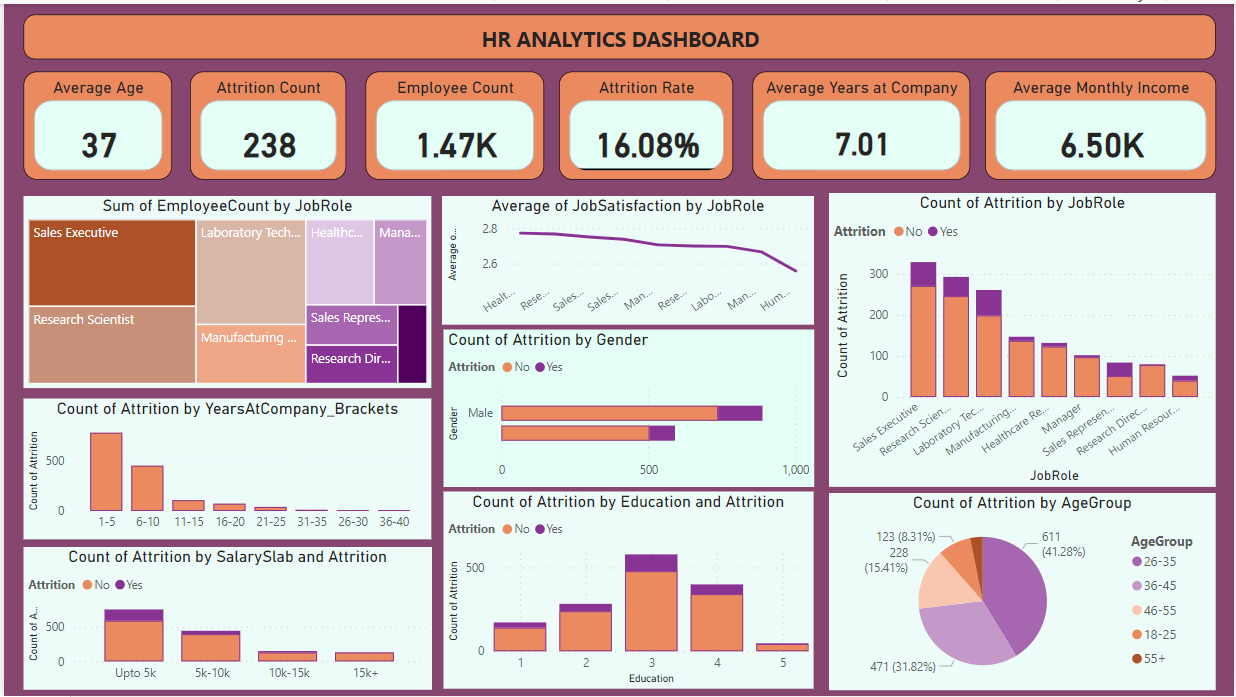

What the dashboard file says about the page in this screenshot:
{"tool":"powerbi","page":{"name":"Page 1","canvas":[1280,720],"ordinal":0},"visuals":[{"type":"columnChart","fields":{"Category":["HR_Analytics.Education"],"Y":["CountNonNull(HR_Analytics.Attrition)"],"Series":["HR_Analytics.Attrition"]},"box":[458.3,508.3,385,205],"z":0},{"type":"columnChart","fields":{"Category":["HR_Analytics.SalarySlab"],"Y":["CountNonNull(HR_Analytics.Attrition)"],"Series":["HR_Analytics.Attrition"]},"box":[20,565,425,148.8],"z":1000},{"type":"columnChart","title":"Count of Attrition by JobRole ","fields":{"Category":["HR_Analytics.JobRole"],"Y":["CountNonNull(HR_Analytics.Attrition)"],"Series":["HR_Analytics.Attrition"]},"box":[859,196.8,403,306.1],"z":2000},{"type":"barChart","title":"Count of Attrition by Gender","fields":{"Category":["HR_Analytics.Gender"],"Series":["HR_Analytics.Attrition"],"Y":["CountNonNull(HR_Analytics.Attrition)"]},"box":[457.6,338.9,385.8,164],"z":3000},{"type":"cardVisual","title":"Employee Count","fields":{"Data":["Count(HR_Analytics.EmpID)"]},"box":[376.4,70.3,185.9,112.5],"z":4000},{"type":"clusteredColumnChart","fields":{"Category":["HR_Analytics.YearsAtCompany_Brackets"],"Y":["CountNonNull(HR_Analytics.Attrition)"]},"box":[20.3,410.8,424.8,146.8],"z":5000},{"type":"lineChart","fields":{"Category":["HR_Analytics.JobRole"],"Y":["Avg(HR_Analytics.JobSatisfaction)"]},"box":[456.1,199.9,387.3,134.3],"z":6000},{"type":"cardVisual","title":"Average Age","fields":{"Data":["Avg(HR_Analytics.Age)"]},"box":[20.3,70.3,154.6,112.5],"z":7000},{"type":"cardVisual","title":"Average Monthly Income","fields":{"Data":["Avg(HR_Analytics.MonthlyIncome)"]},"box":[1021.4,70.3,240.5,112.5],"z":8000},{"type":"cardVisual","title":"Average Years at Company","fields":{"Data":["Avg(HR_Analytics.YearsAtCompany)"]},"box":[779.3,70.3,226.5,112.5],"z":9000},{"type":"pieChart","fields":{"Category":["HR_Analytics.AgeGroup"],"Y":["CountNonNull(HR_Analytics.Attrition)"]},"box":[858.8,508.8,402.5,205],"z":10000},{"type":"textbox","box":[20.3,10.9,1241.6,46.9],"z":11000},{"type":"cardVisual","title":"Attrition Count","fields":{"Data":["CountNonNull(HR_Analytics.Attrition)"]},"box":[193.7,70.3,162.4,112.5],"z":12000},{"type":"treemap","fields":{"Group":["HR_Analytics.JobRole"],"Values":["Sum(HR_Analytics.EmployeeCount)"]},"box":[20.3,199.9,424.8,199.9],"z":13000},{"type":"cardVisual","title":"Attrition Rate","fields":{"Data":["HR_Analytics.Attrition Rate"]},"box":[577.9,70.3,181.2,112.5],"z":14000}]}

Visuals, with their boxes in screenshot pixels (x1, y1, x2, y2), scaled from the page's 1280x720 canvas onto the 1236x697 screenshot:
columnChart - HR_Analytics.Education x CountNonNull(HR_Analytics.Attrition): <region>443, 492, 814, 691</region>
columnChart - HR_Analytics.SalarySlab x CountNonNull(HR_Analytics.Attrition): <region>19, 547, 430, 691</region>
"Count of Attrition by JobRole " columnChart: <region>829, 191, 1219, 487</region>
"Count of Attrition by Gender" barChart: <region>442, 328, 814, 487</region>
"Employee Count" cardVisual: <region>363, 68, 543, 177</region>
clusteredColumnChart - HR_Analytics.YearsAtCompany_Brackets x CountNonNull(HR_Analytics.Attrition): <region>20, 398, 430, 540</region>
lineChart - HR_Analytics.JobRole x Avg(HR_Analytics.JobSatisfaction): <region>440, 194, 814, 324</region>
"Average Age" cardVisual: <region>20, 68, 169, 177</region>
"Average Monthly Income" cardVisual: <region>986, 68, 1219, 177</region>
"Average Years at Company" cardVisual: <region>753, 68, 971, 177</region>
pieChart - HR_Analytics.AgeGroup x CountNonNull(HR_Analytics.Attrition): <region>829, 493, 1218, 691</region>
textbox: <region>20, 11, 1219, 56</region>
"Attrition Count" cardVisual: <region>187, 68, 344, 177</region>
treemap - HR_Analytics.JobRole x Sum(HR_Analytics.EmployeeCount): <region>20, 194, 430, 387</region>
"Attrition Rate" cardVisual: <region>558, 68, 733, 177</region>
